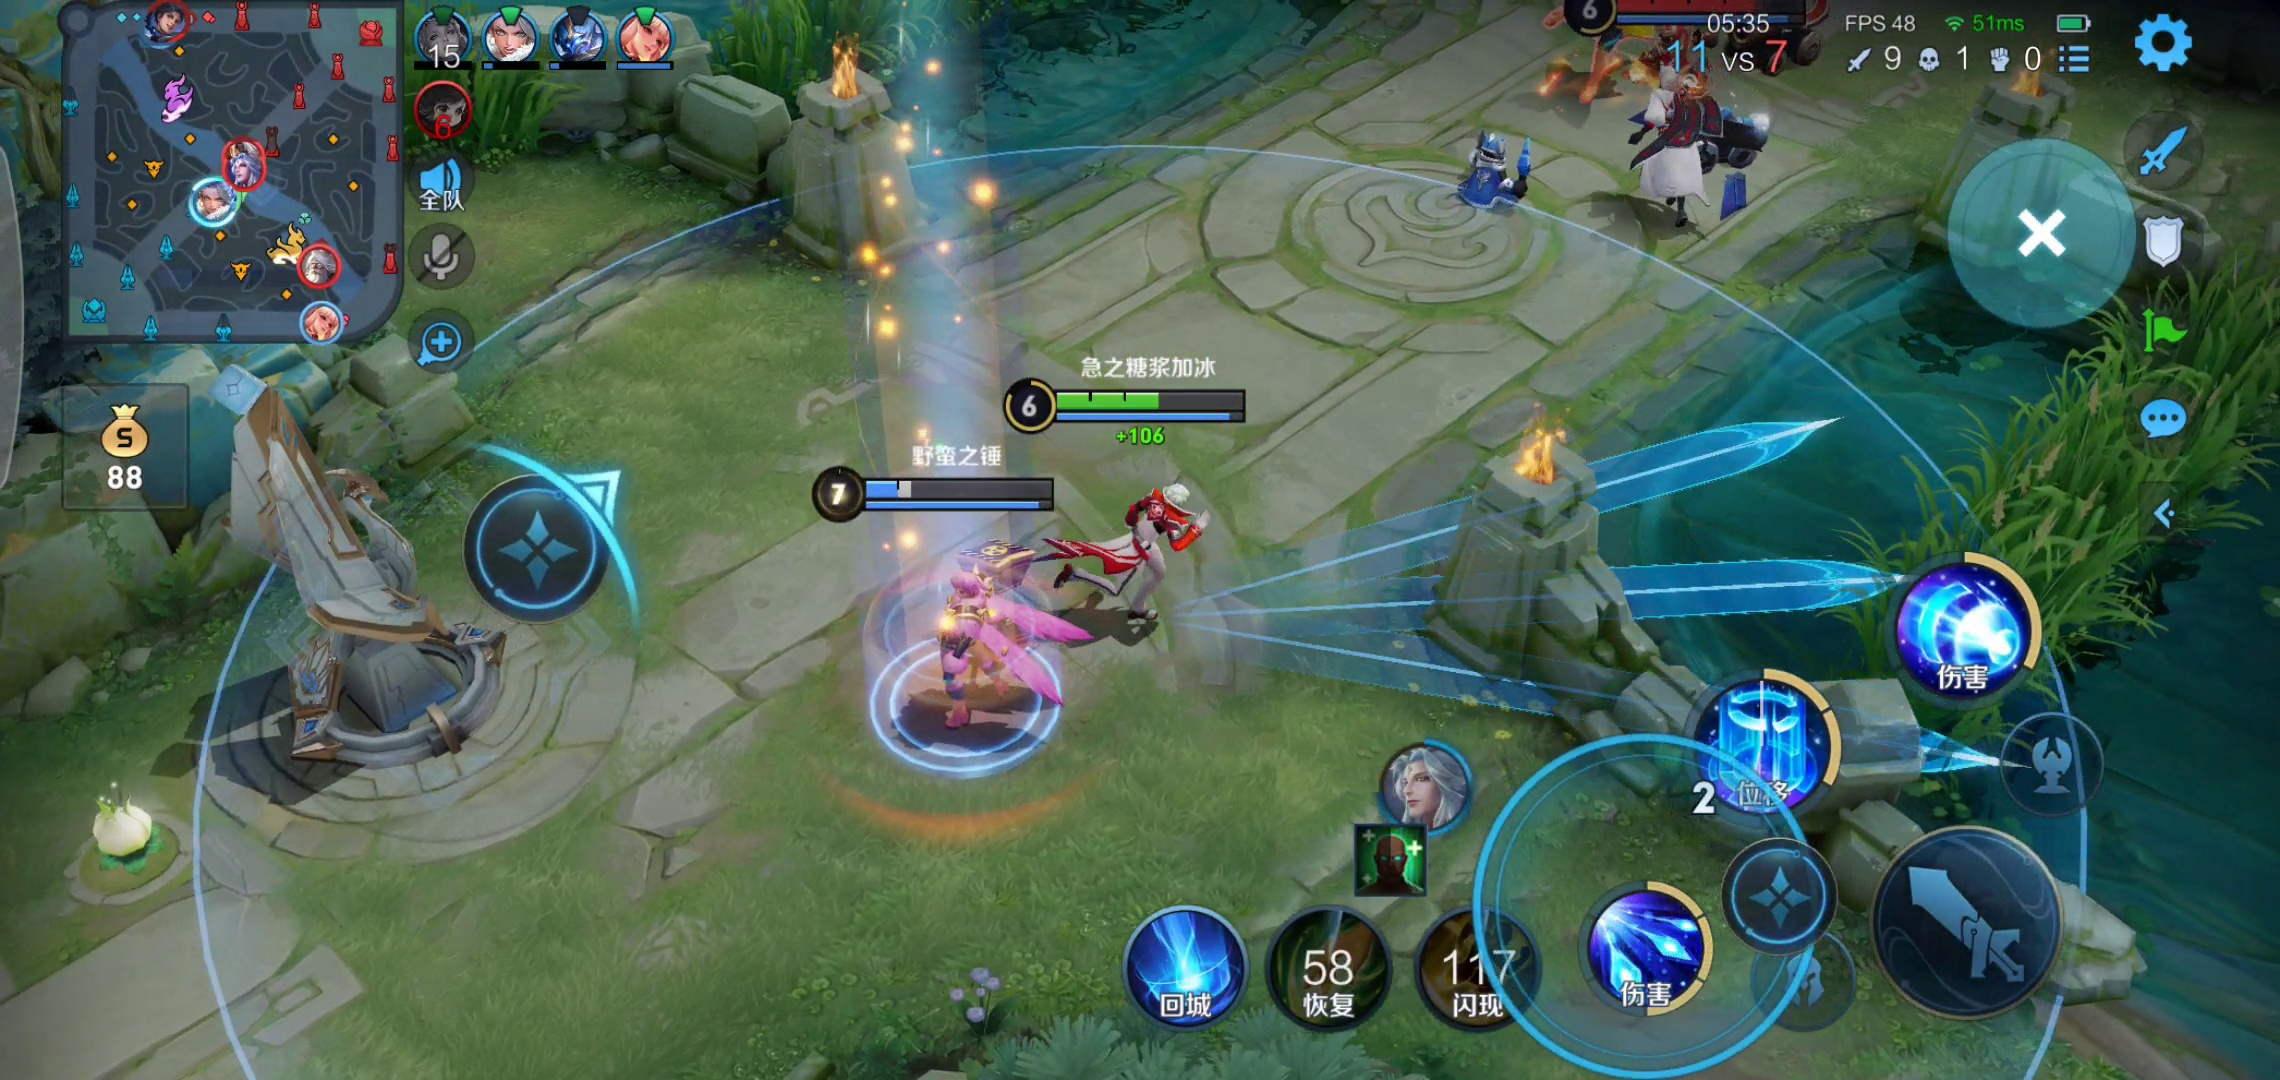grass: (1867, 251, 2280, 740), (718, 19, 1054, 109)
hero: (858, 531, 1064, 778), (1061, 464, 1207, 640), (1643, 67, 1749, 269)
soldier: (1435, 118, 1554, 219)
tower: (196, 382, 550, 769)
